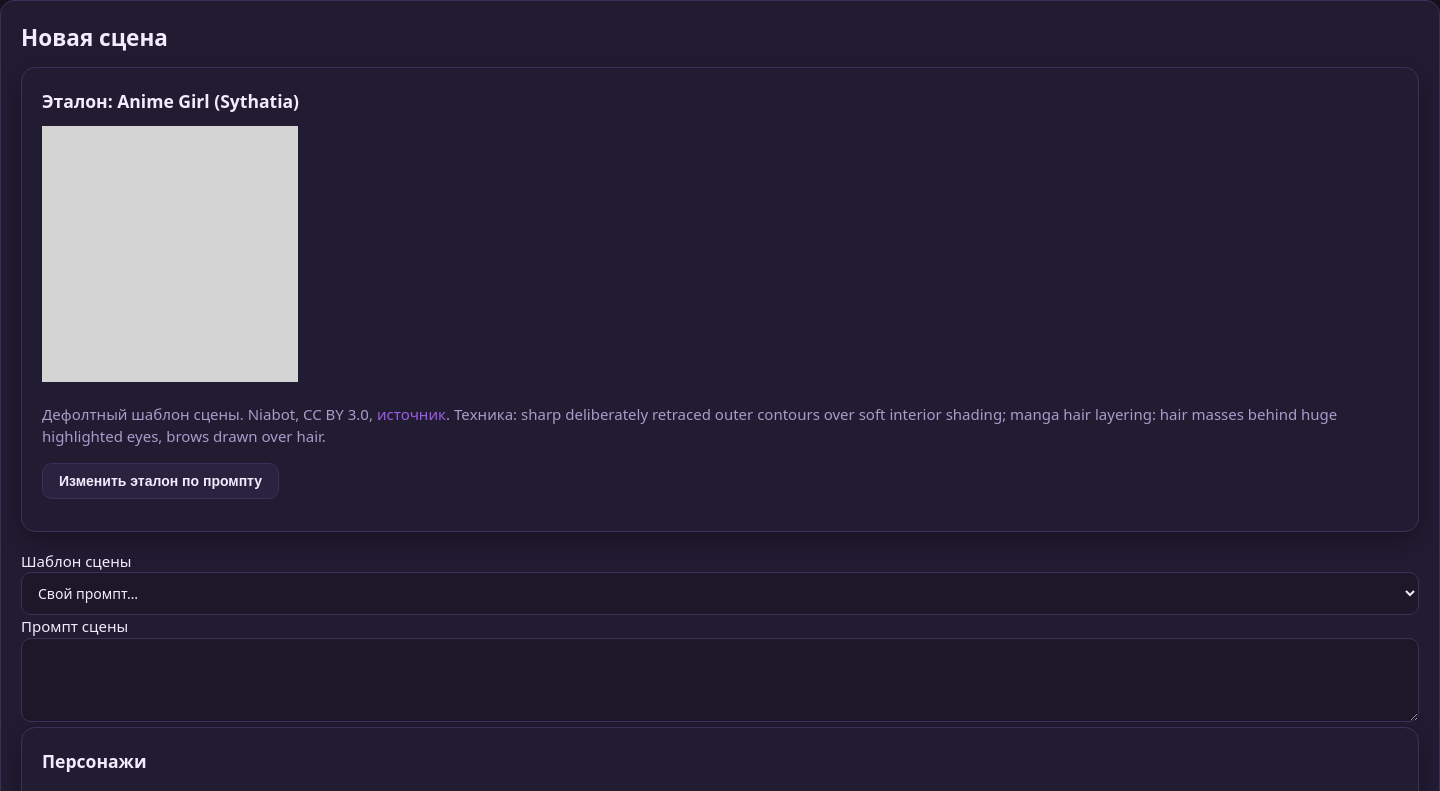
SceneComposer (cast + missing proposals + paused queue) › selects library cast via checkboxes and generates with it (no typing)
The image size is (1440, 791).
In the text box labelled "Промпт сцены": (720, 680) [21, 638, 1419, 722], type "сцена с кастом"
(page scrolled)
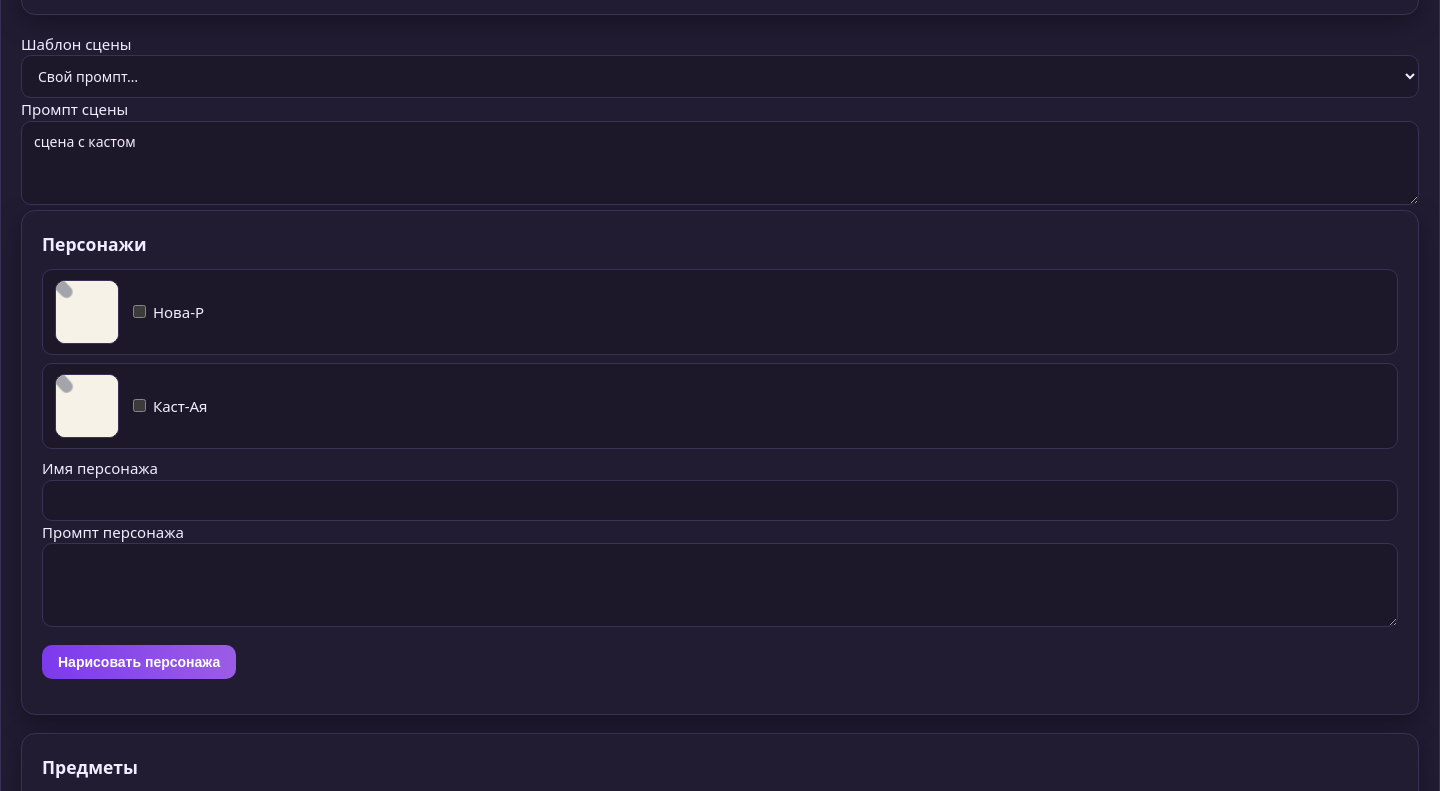
Click the checkbox labelled "Каст-Ая": (140, 406) [133, 399, 146, 412]
(page scrolled)
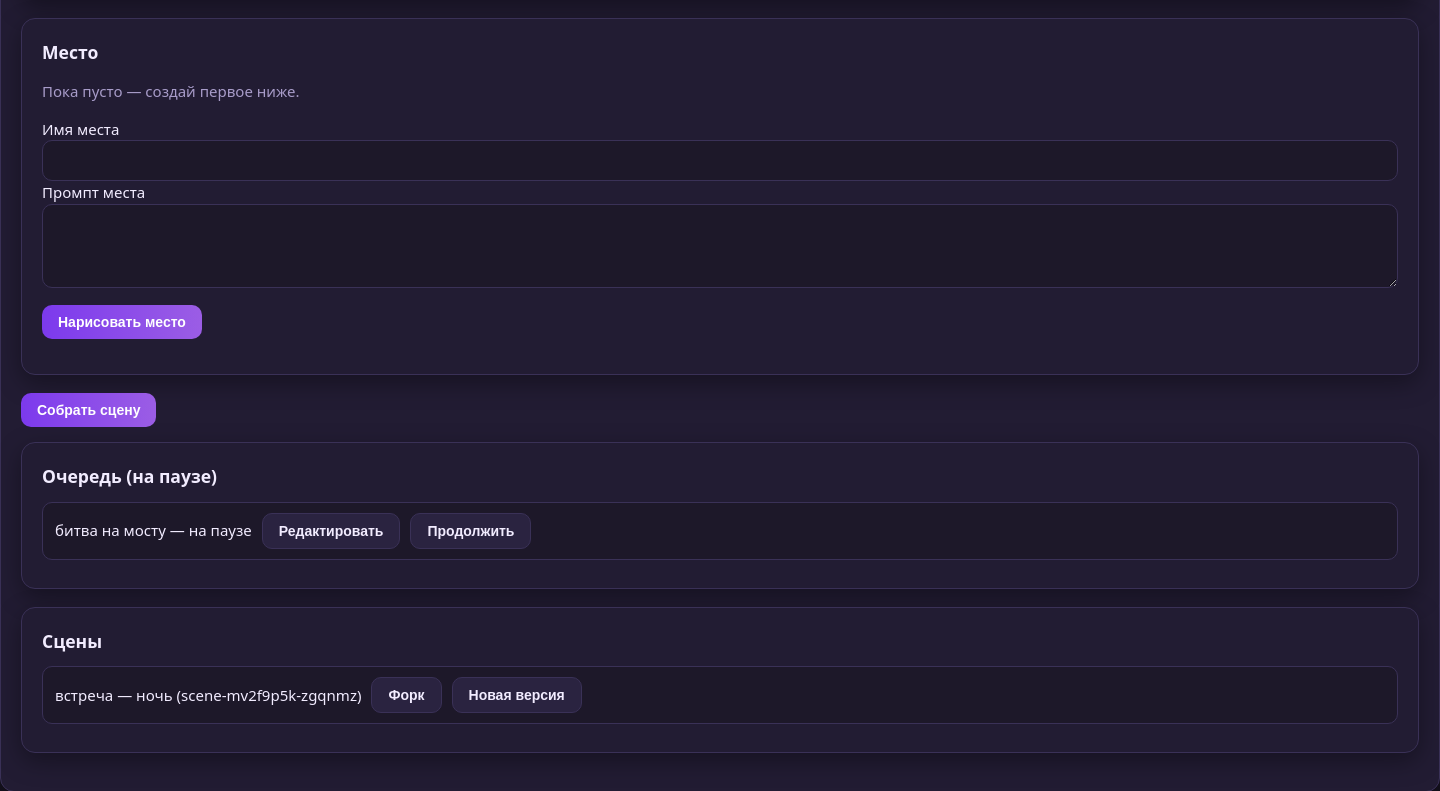
Click the button "Собрать сцену": (89, 410) [21, 393, 156, 427]
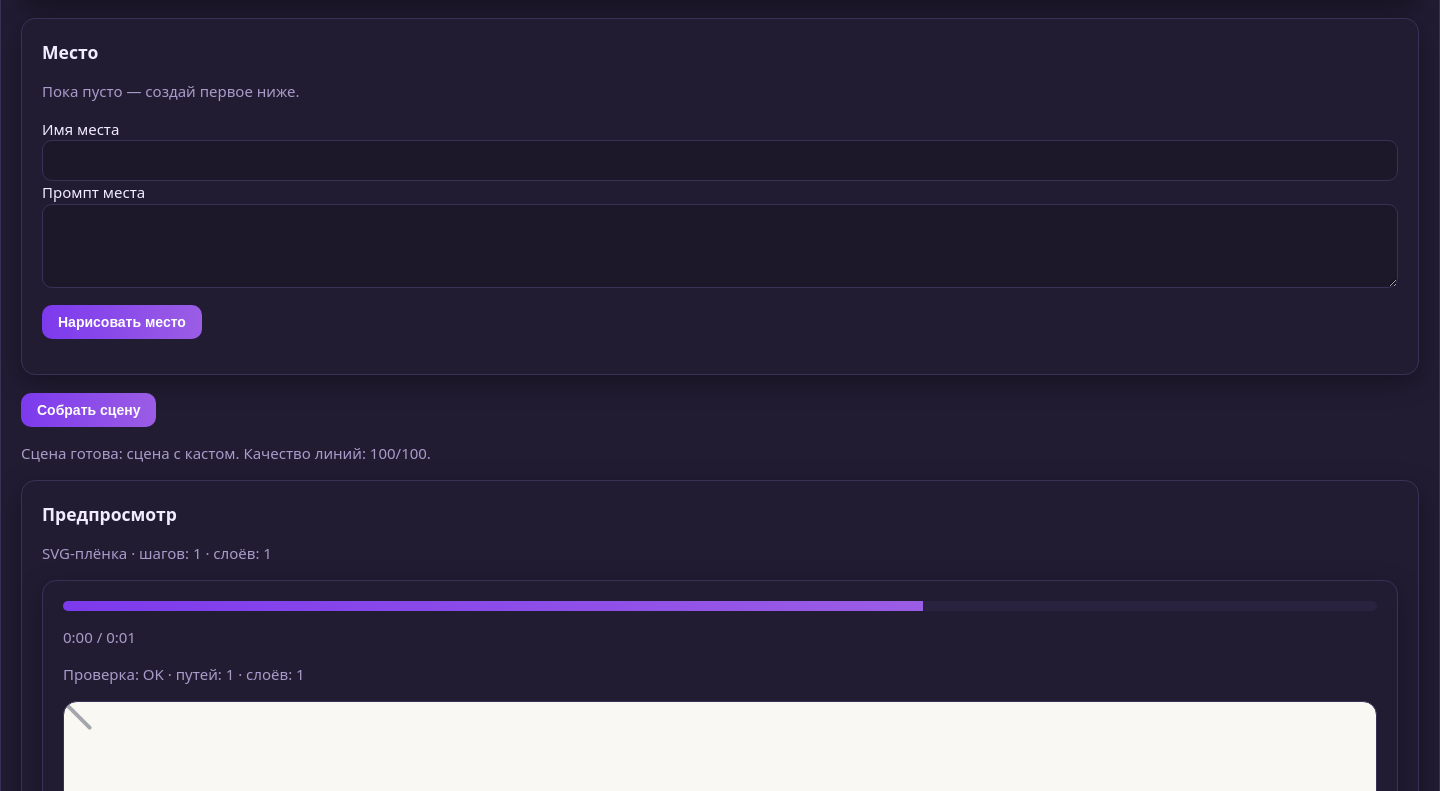
expect the text "Сцена готова: сцена с кастом. Качество линий: 100/100." is shown: met, box [21, 443, 431, 463]
